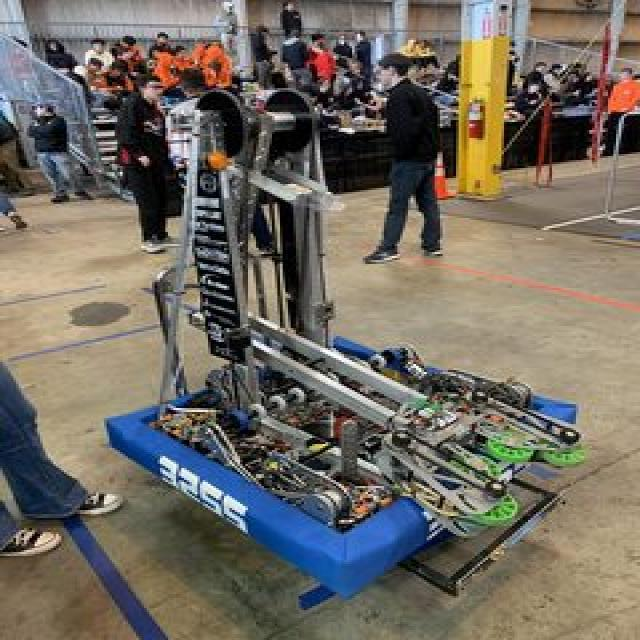robot: (103, 71, 596, 597)
